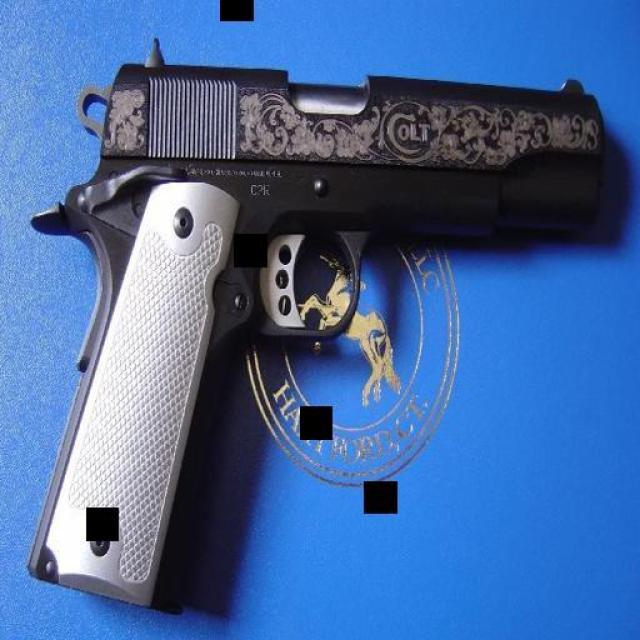gun: (19, 29, 608, 602)
